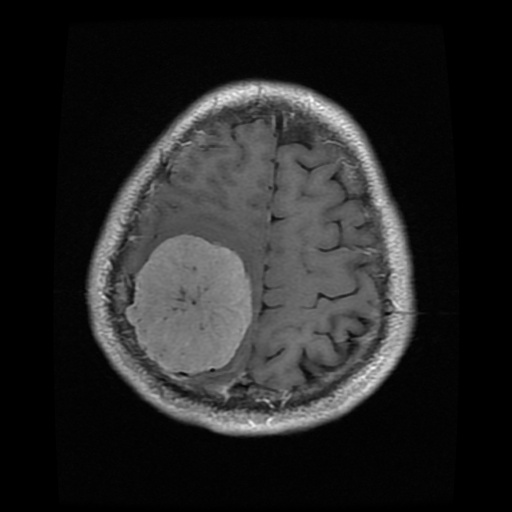meningioma: (124, 233, 253, 374)
